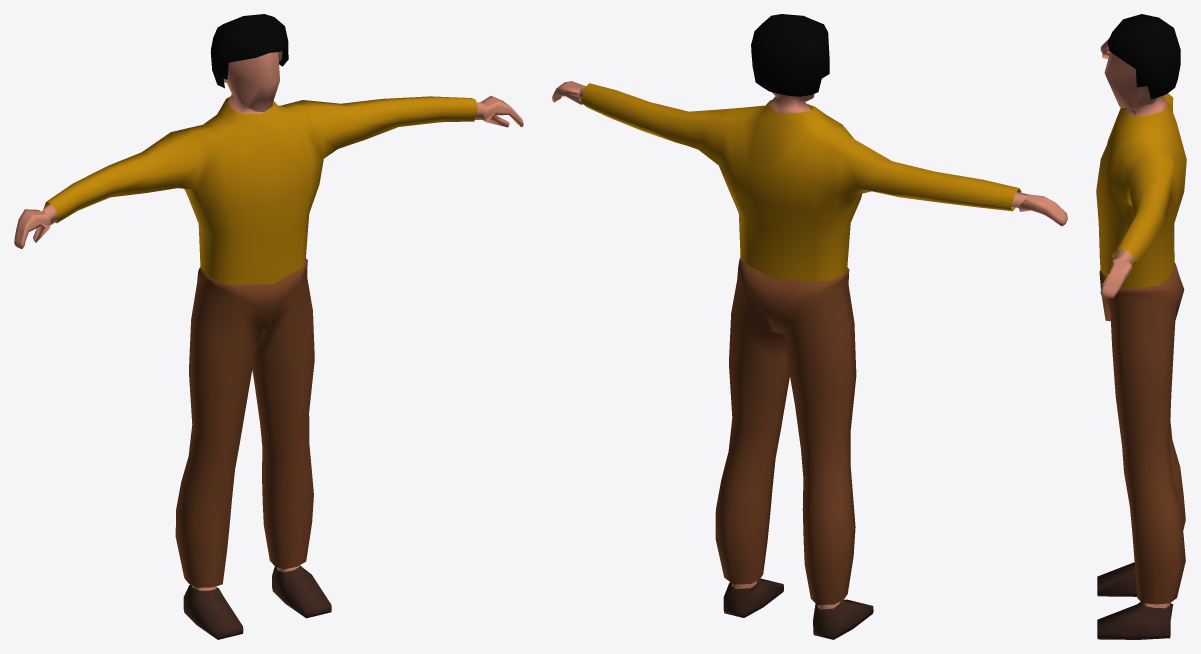
Rendered from CharacterWithClothsBest.fbx.
The picture shows the model from 3 angles, left to right: view 1: azimuth 30°, elevation 25°; view 2: azimuth 150°, elevation 25°; view 3: azimuth 270°, elevation 25°; orthographic projection.
Visible parts, largest first — view 1: Body; view 2: Body; view 3: Body.
Boxes of the visible parts, left/top/right/bottom form: Body: left=14, top=14, right=523, bottom=639; Body: left=552, top=14, right=1067, bottom=639; Body: left=1096, top=14, right=1186, bottom=639.
Size of the model in its own units: 172 by 193 by 26.83.
